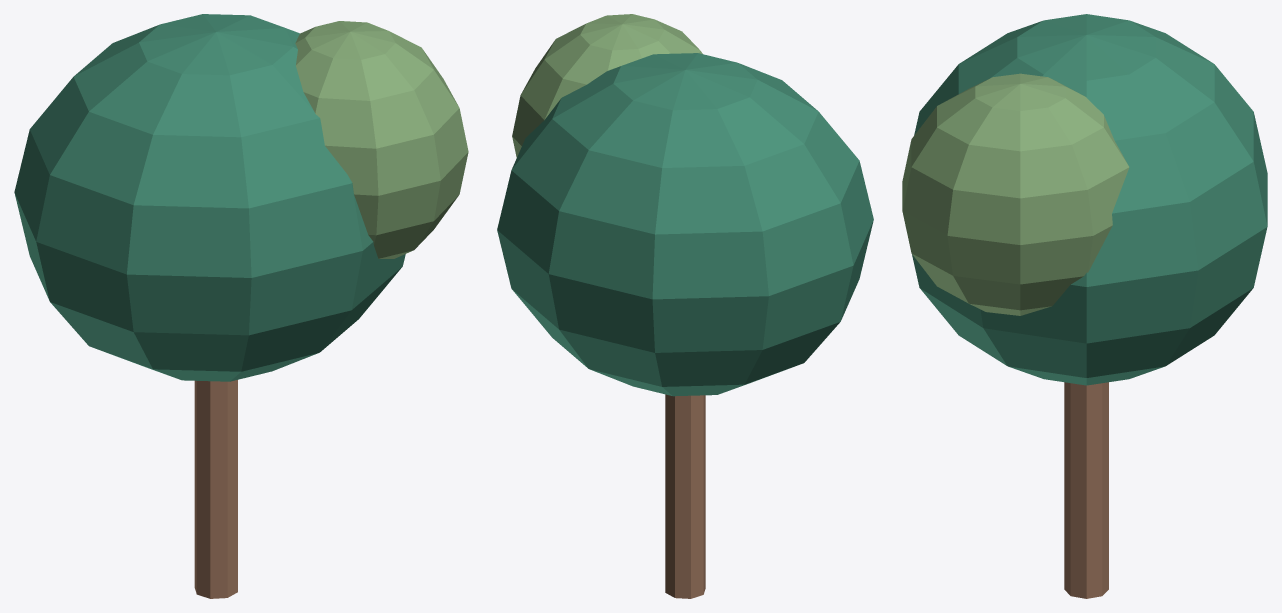
The model's file is broadleaf.obj.
3 views of the same model, side by side, from view 1: azimuth 30°, elevation 25°; view 2: azimuth 150°, elevation 25°; view 3: azimuth 270°, elevation 25° (orthographic). The views are drawn at different scales.
Parts seen in each view (by area): view 1: broadleaf; view 2: broadleaf; view 3: broadleaf.
Part boxes in pixels (x1,y1,x2,y2): broadleaf: (14,14,468,598); broadleaf: (497,14,873,598); broadleaf: (902,14,1267,598).
Size of the model in its own units: 5.3 by 7.4 by 4.41.
